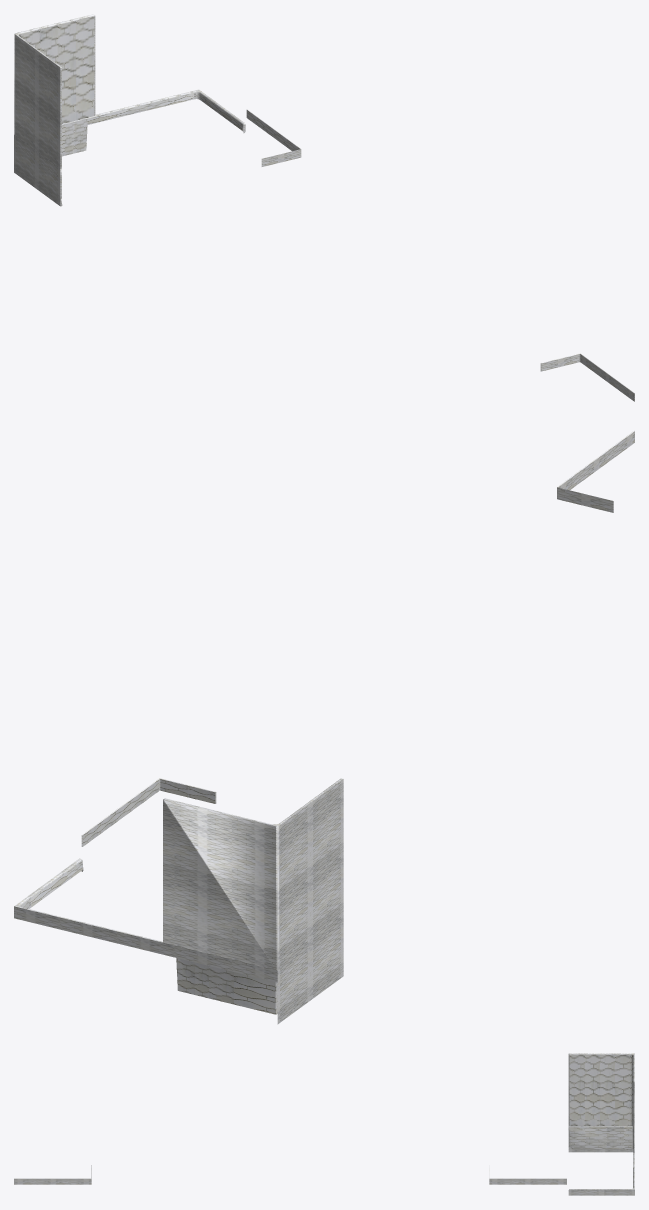
File: 1860_bathroom_BP_BackplashMarbleWinterFrost.gltf
3 views of the same model, one above another, from view 1: azimuth 30°, elevation 25°; view 2: azimuth 150°, elevation 25°; view 3: azimuth 270°, elevation 25° (orthographic). The views are drawn at different scales.
Visible parts, largest first — view 1: Marble_Winter_Frost.001; view 2: Marble_Winter_Frost.001; view 3: Marble_Winter_Frost.001.
Part boxes in pixels (x1,y1,x2,y2): Marble_Winter_Frost.001: (14, 14, 634, 401); Marble_Winter_Frost.001: (14, 430, 634, 1024); Marble_Winter_Frost.001: (14, 1053, 634, 1195).
Size of the model in its own units: 4.6 by 3.3 by 18.76.
1 material, 1 textured.
